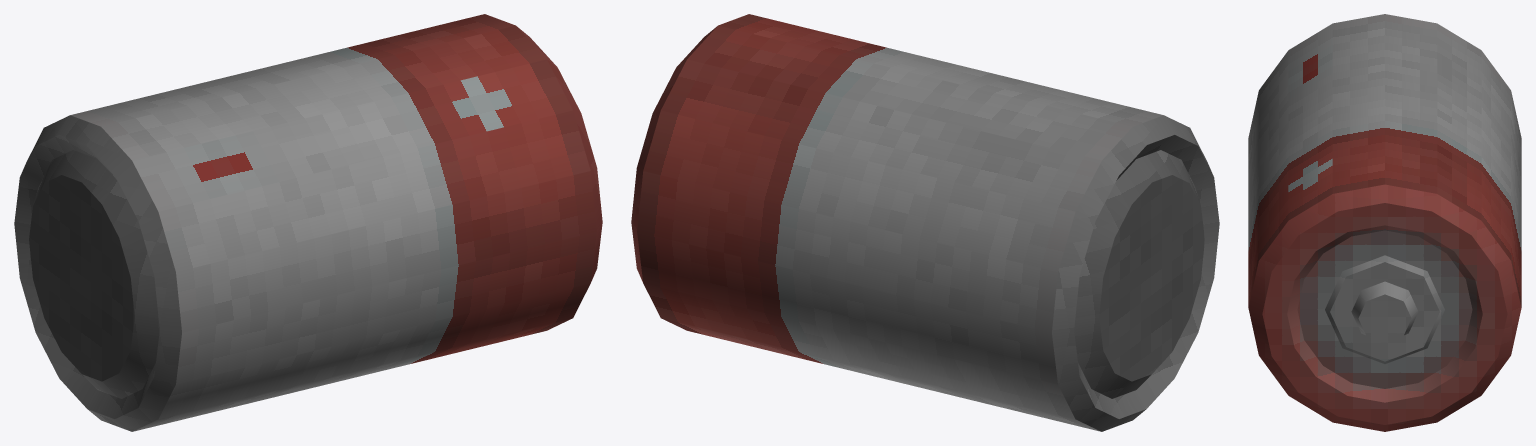
Rendered from battery_mp_2_1.glb.
The picture shows the model from 3 angles, left to right: view 1: azimuth 30°, elevation 25°; view 2: azimuth 150°, elevation 25°; view 3: azimuth 270°, elevation 25°; orthographic projection. The views are drawn at different scales.
Parts seen in each view (by area): view 1: battery_mp_2_1; view 2: battery_mp_2_1; view 3: battery_mp_2_1.
Boxes of the visible parts, x1,y1,x2,y2 form: battery_mp_2_1: [14, 14, 602, 431]; battery_mp_2_1: [631, 14, 1219, 431]; battery_mp_2_1: [1248, 14, 1521, 431].
Bounding box in the file's own units: 0.0883 × 0.054 × 0.054.
1 material, 1 textured.
